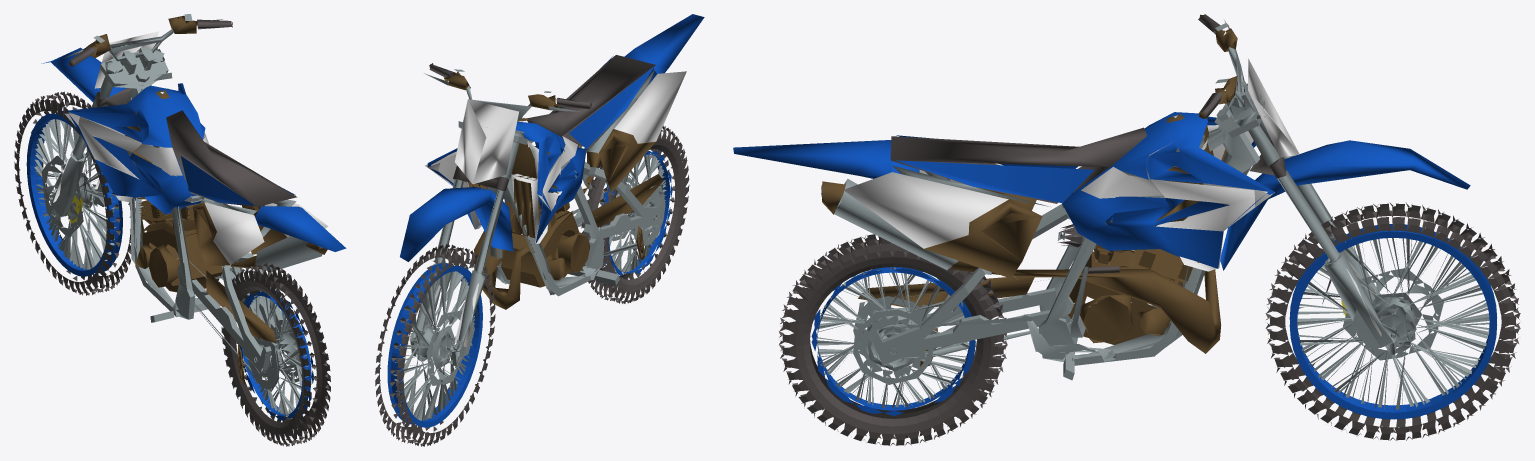
3 views of the same model, side by side, from view 1: azimuth 30°, elevation 25°; view 2: azimuth 150°, elevation 25°; view 3: azimuth 270°, elevation 25° (orthographic). The views are drawn at different scales.
Parts seen in each view (by area): view 1: new z kx marco.001_0; view 2: new z kx marco.001_0; view 3: new z kx marco.001_0.
Part boxes in pixels (x1=…): new z kx marco.001_0: x1=14, y1=14, x2=346, y2=446; new z kx marco.001_0: x1=375, y1=14, x2=704, y2=446; new z kx marco.001_0: x1=733, y1=14, x2=1520, y2=445.
Bounding box in the file's own units: 0.6476 × 1.19 × 2.18.
